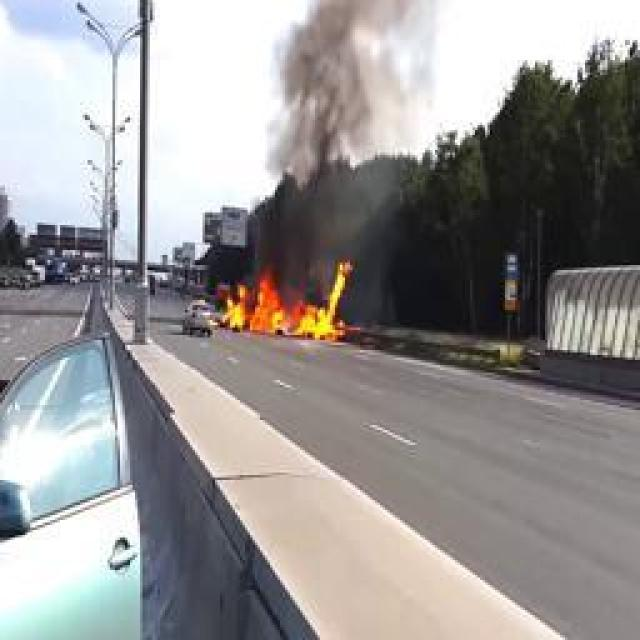Fire: (216, 260, 352, 340)
